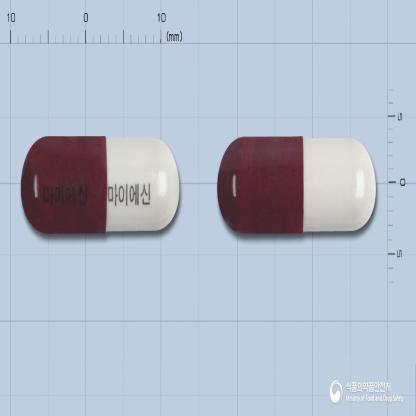pill: (216, 132, 376, 234), (19, 135, 181, 235)
